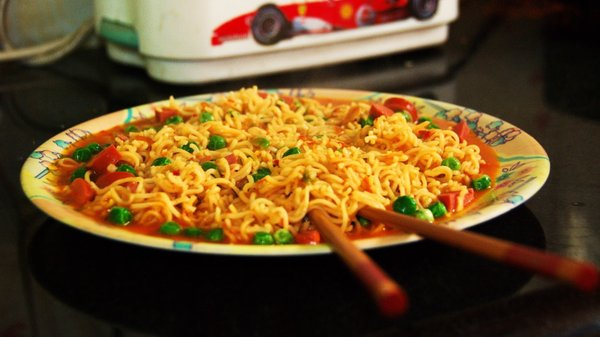sandwich: (356, 200, 598, 293), (309, 204, 410, 322)
